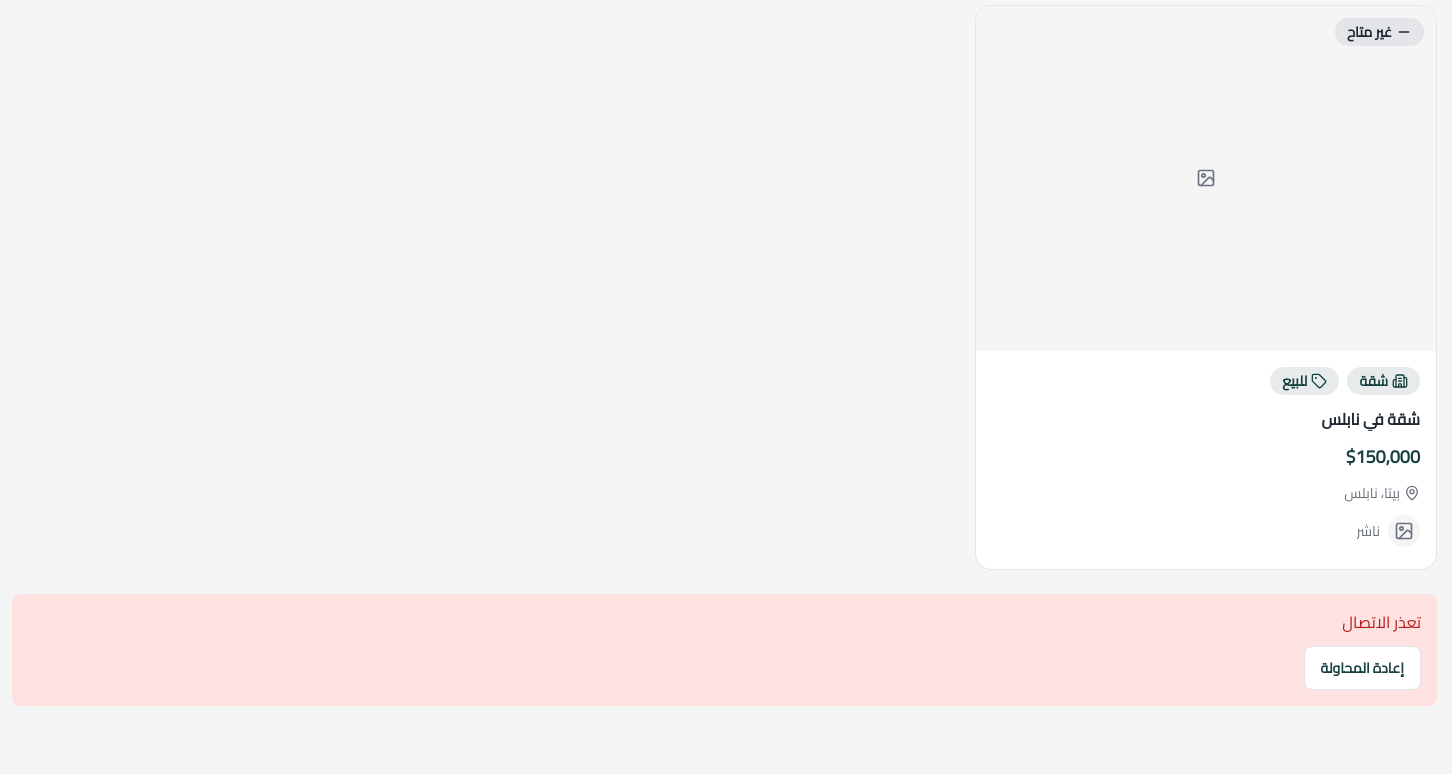
Test case: retries a failed next page without replacing the first page
(page scrolled)
Expected: the link "شقة في نابلس" is shown, [1322,407,1420,431]
Click the button "إعادة المحاولة" at (1362, 668), box [1304,646,1421,690]
(page scrolled)
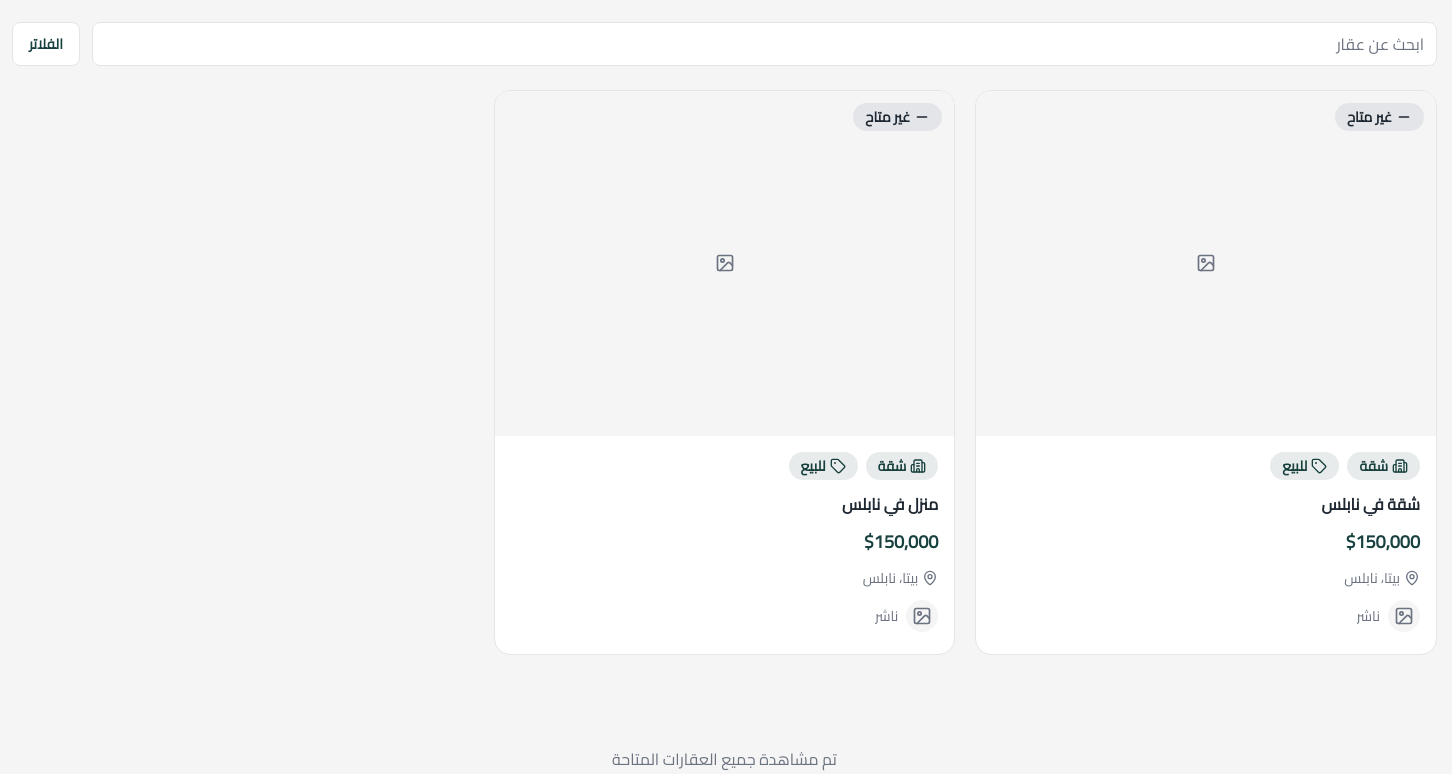
Expected: the link "شقة في نابلس" is shown, [1322,492,1420,516]
Now the link "منزل في نابلس" is shown, box [842,492,938,516]
Now the text "تم مشاهدة جميع العقارات المتاحة" is shown, box [612,744,837,773]
